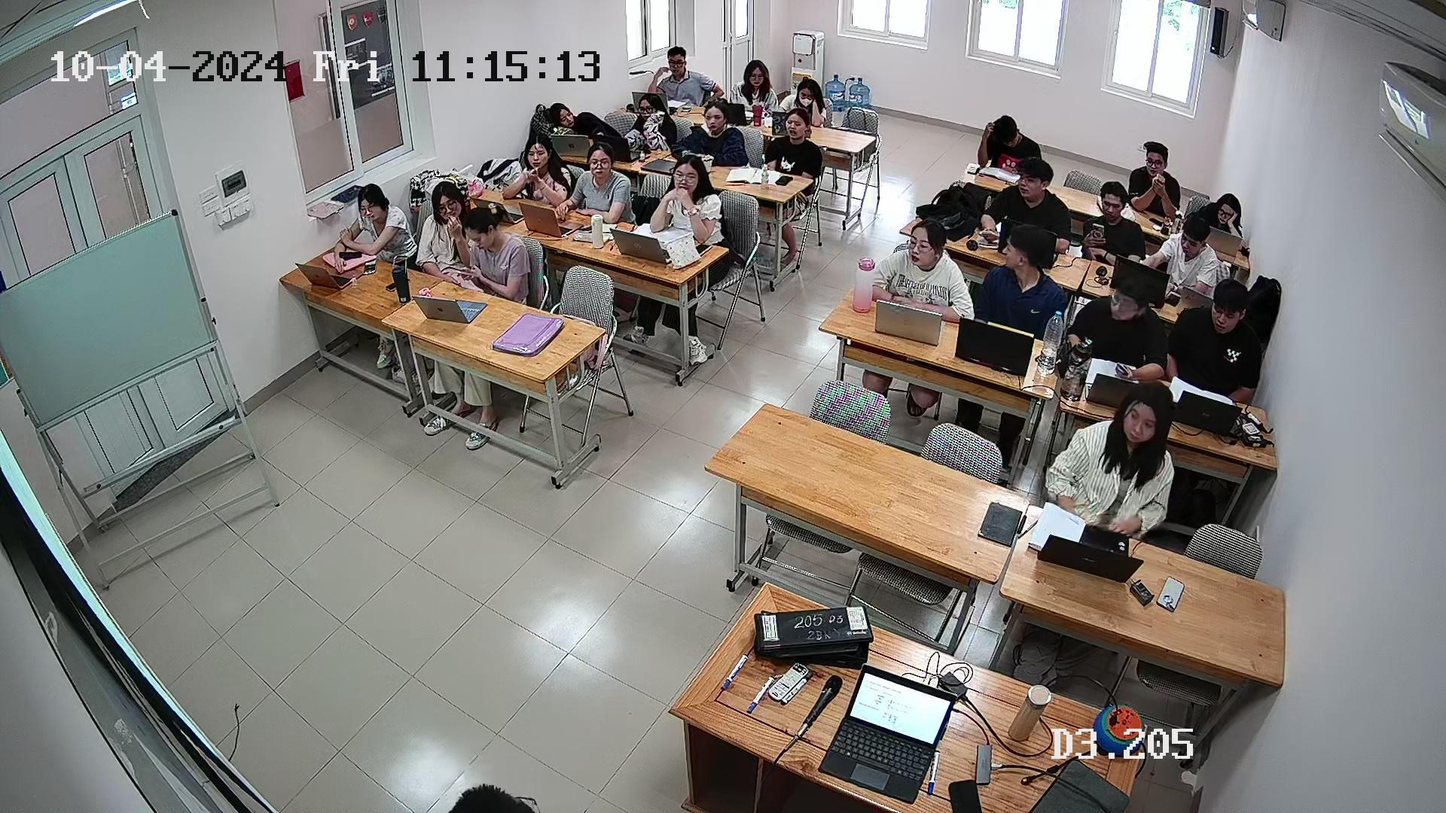Look Around: (1005, 221, 1050, 279)
phone: (452, 255, 483, 281), (1115, 353, 1136, 376), (1091, 221, 1109, 247)
